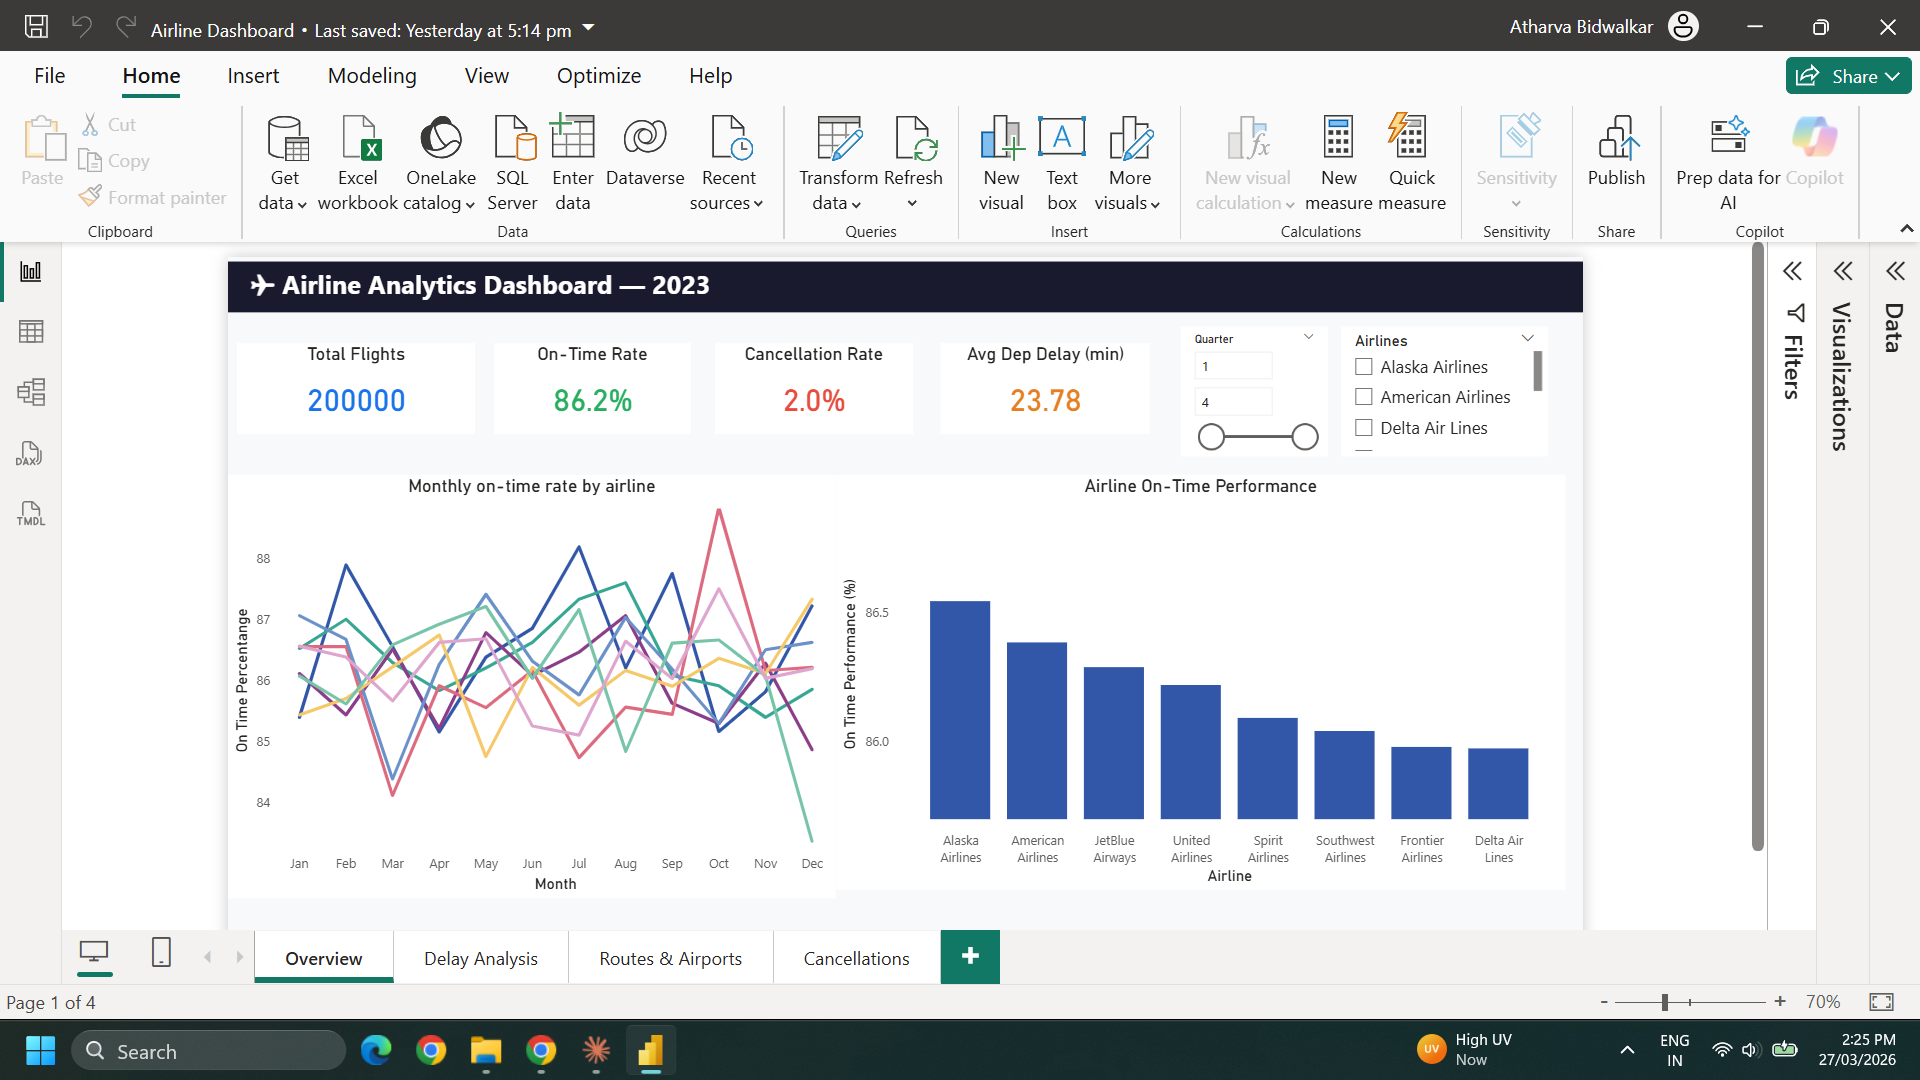

The dashboard page shown, as its layout file describes it:
{"tool":"powerbi","page":{"name":"Overview","canvas":[1280,720],"ordinal":0},"visuals":[{"type":"shape","box":[0,4,1280,48],"z":0},{"type":"card","title":"On-Time Rate","fields":{"Values":["Dim_Airline.On-Time Rate %"]},"box":[251,82,186,86],"z":1000},{"type":"card","title":"Cancellation Rate","fields":{"Values":["Dim_Airline.Cancellation Rate %"]},"box":[460,82,187,86],"z":2000},{"type":"card","title":"Avg Dep Delay (min)","fields":{"Values":["Dim_Airline.Avg Dep Delay (min)"]},"box":[673,82,198,86],"z":3000},{"type":"card","title":"Total Flights","fields":{"Values":["Dim_Airline.Total Flights"]},"box":[9,82,225,86],"z":4000},{"type":"lineChart","title":"Monthly on-time rate by airline","fields":{"Category":["Dim_Date.month_name"],"Y":["Sum(Fact_Airline_Monthly.on_time_pct)"],"Series":["Fact_Airline_Monthly.carrier_name"]},"box":[0,206,574,400],"z":5000},{"type":"columnChart","title":"Airline On-Time Performance","fields":{"Category":["Fact_Airline_Monthly.carrier_name"],"Y":["Avg(Fact_Airline_Monthly.on_time_pct)"]},"box":[574,206,689,392],"z":6000},{"type":"slicer","fields":{"Values":["Dim_Airline.carrier_name"]},"box":[1051,65,195,122],"z":7000},{"type":"slicer","fields":{"Values":["Dim_Date.quarter"]},"box":[900,65,138,122],"z":8000},{"type":"textbox","box":[16,4,600,44],"z":9000}]}

Visuals, with their boxes on the page's 1280x720 design canvas (x1, y1, x2, y2). These are canvas units, not pixel positions in the 1920x1080 screenshot, which may show the page scaled, cropped or inside an application window:
shape: {"left": 0, "top": 4, "right": 1280, "bottom": 52}
"On-Time Rate" card: {"left": 251, "top": 82, "right": 437, "bottom": 168}
"Cancellation Rate" card: {"left": 460, "top": 82, "right": 647, "bottom": 168}
"Avg Dep Delay (min)" card: {"left": 673, "top": 82, "right": 871, "bottom": 168}
"Total Flights" card: {"left": 9, "top": 82, "right": 234, "bottom": 168}
"Monthly on-time rate by airline" lineChart: {"left": 0, "top": 206, "right": 574, "bottom": 606}
"Airline On-Time Performance" columnChart: {"left": 574, "top": 206, "right": 1263, "bottom": 598}
slicer - Dim_Airline.carrier_name: {"left": 1051, "top": 65, "right": 1246, "bottom": 187}
slicer - Dim_Date.quarter: {"left": 900, "top": 65, "right": 1038, "bottom": 187}
textbox: {"left": 16, "top": 4, "right": 616, "bottom": 48}
